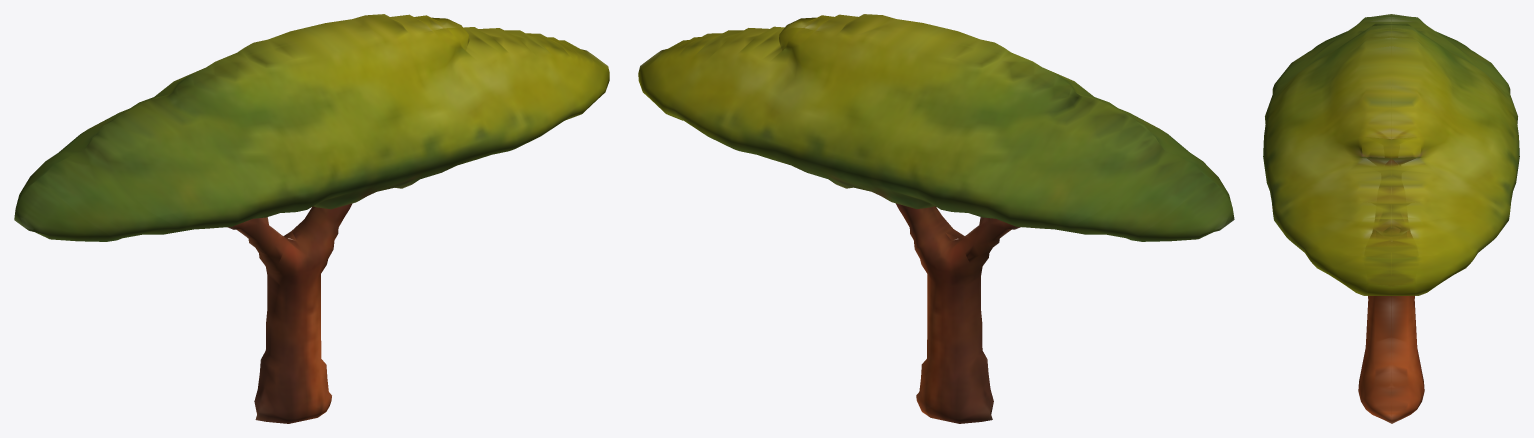
Rendered from 02_acacia_trees_r02_c04.glb.
The picture shows the model from 3 angles, left to right: view 1: azimuth 30°, elevation 25°; view 2: azimuth 150°, elevation 25°; view 3: azimuth 270°, elevation 25°; orthographic projection. The views are drawn at different scales.
Visible parts, largest first — view 1: 02_acacia_trees_r02_c04; view 2: 02_acacia_trees_r02_c04; view 3: 02_acacia_trees_r02_c04.
Part boxes in pixels (left/top/right/bottom): 02_acacia_trees_r02_c04: left=14, top=14, right=609, bottom=423; 02_acacia_trees_r02_c04: left=638, top=14, right=1234, bottom=423; 02_acacia_trees_r02_c04: left=1263, top=14, right=1519, bottom=423.
Bounding box in the file's own units: 1.83 × 1.12 × 0.7322.
1 material, 1 textured.
